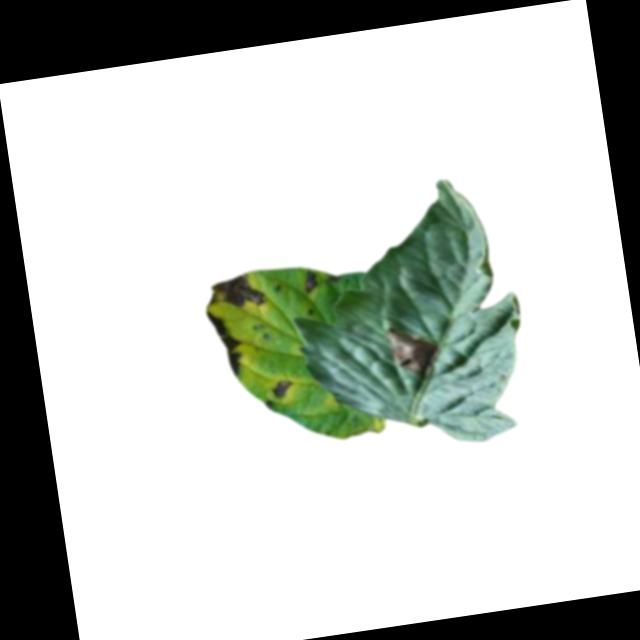Early_blight: (385, 320, 440, 378), (203, 305, 246, 378), (206, 270, 270, 314), (298, 268, 321, 296), (267, 378, 293, 398)
